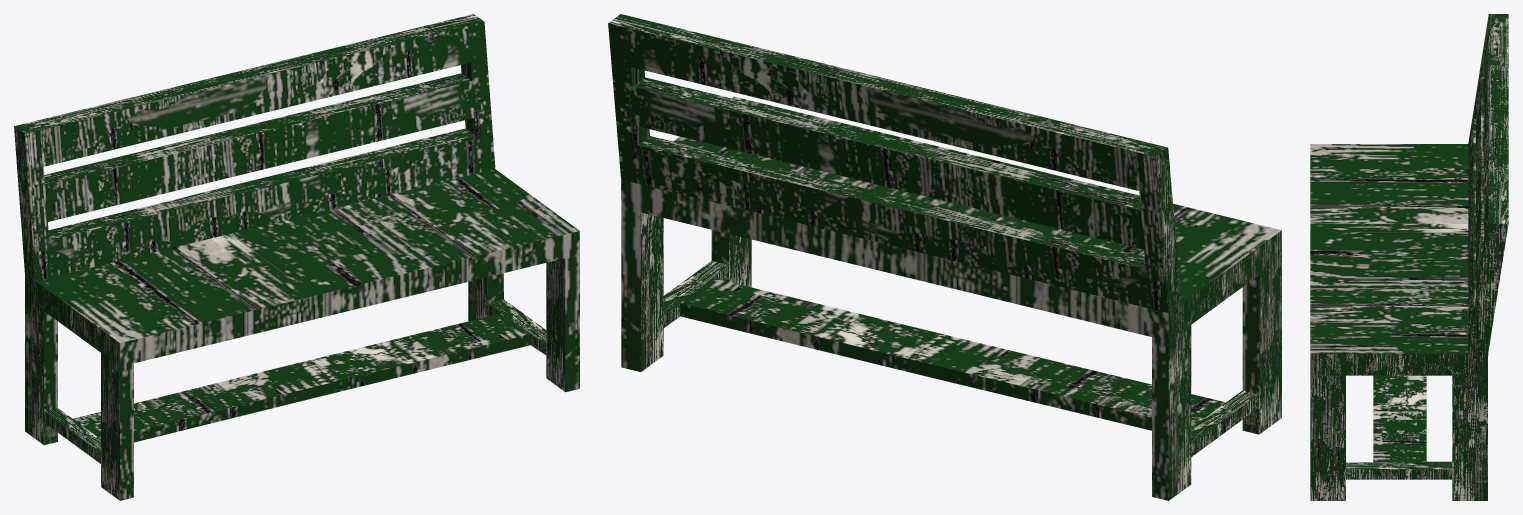
Rendered from Bench.fbx.
3 renders of one model, left to right at view 1: azimuth 30°, elevation 25°; view 2: azimuth 150°, elevation 25°; view 3: azimuth 270°, elevation 25°, orthographic. The views are drawn at different scales.
Visible parts, largest first — view 1: pCube37; view 2: pCube37; view 3: pCube37.
Part boxes in pixels (x1,y1,x2,y2): pCube37: [14, 14, 579, 500]; pCube37: [608, 14, 1281, 500]; pCube37: [1310, 14, 1508, 500].
Size of the model in its own units: 1.57 by 0.9722 by 0.6293.
